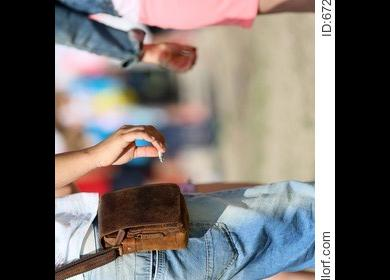Cigarette: (157, 145, 164, 162)
